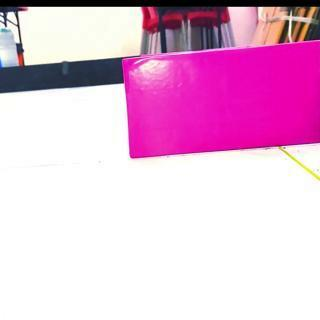xparking: (125, 56, 320, 154)
